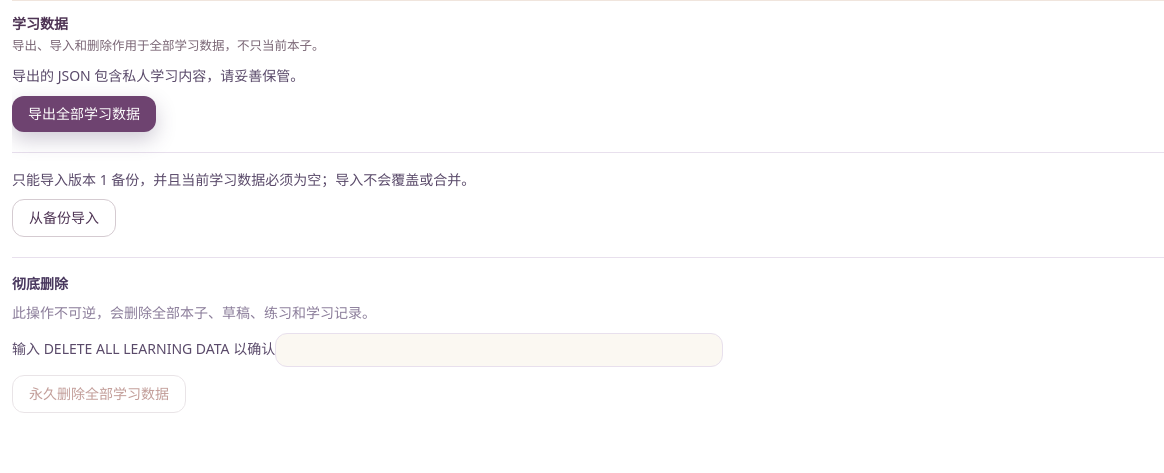
Test: SettingsLearningData › preflights owner data and explains a non-empty import conflict
This screenshot has width=1164, height=473.
What coordinates should you click on to do the following:
click the button "从备份导入"
I would click on:
 (64, 218)
Its box is [12,200,116,238].
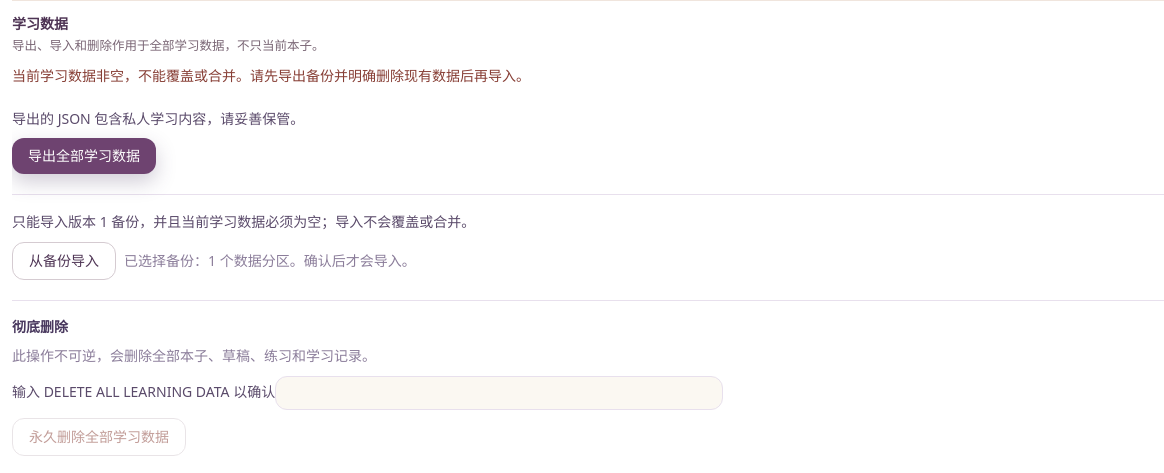
Result: the message "当前学习数据非空，不能覆盖或合并。请先导出备份并明确删除现有数据后再导入。" is shown at [12,66,530,85]
